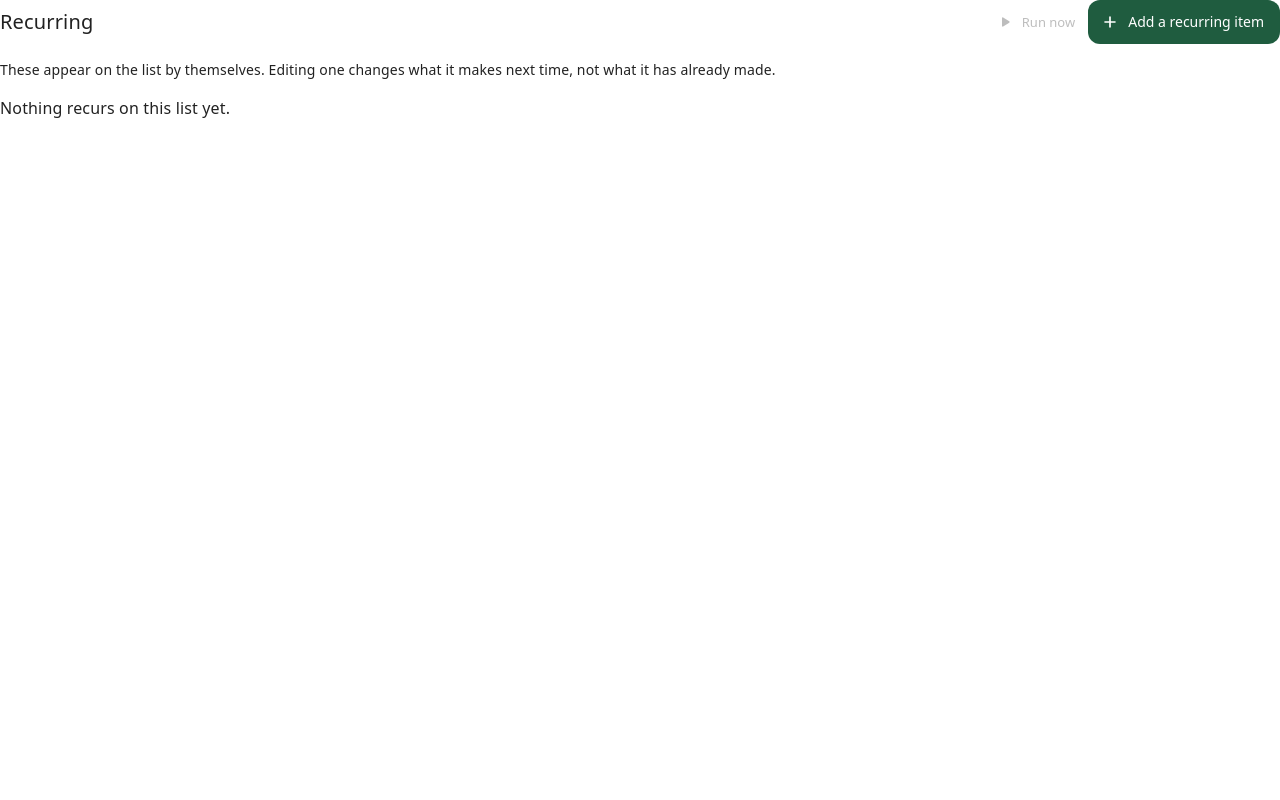
Test case: RecurrenceSection › asks only for the parameters the chosen shape uses
Click the button "Add a recurring item".
click(1184, 22)  # box [1088,0,1279,44]
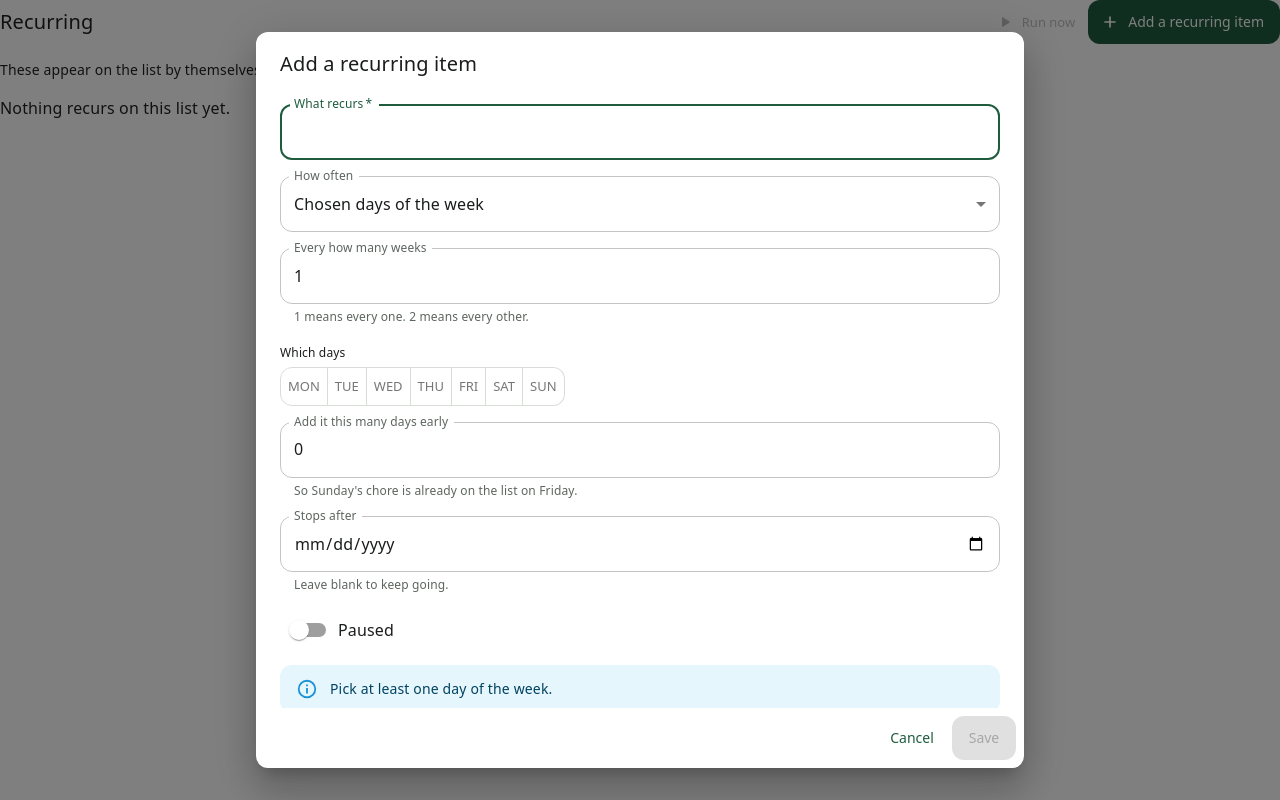
Expected: the number field labelled "Day of the month" is not shown
Expected: the button with aria-label "TUESDAY" is shown, [327,367,367,406]
Click the dropdown named "How often".
click(389, 204)  # box [294,192,484,214]
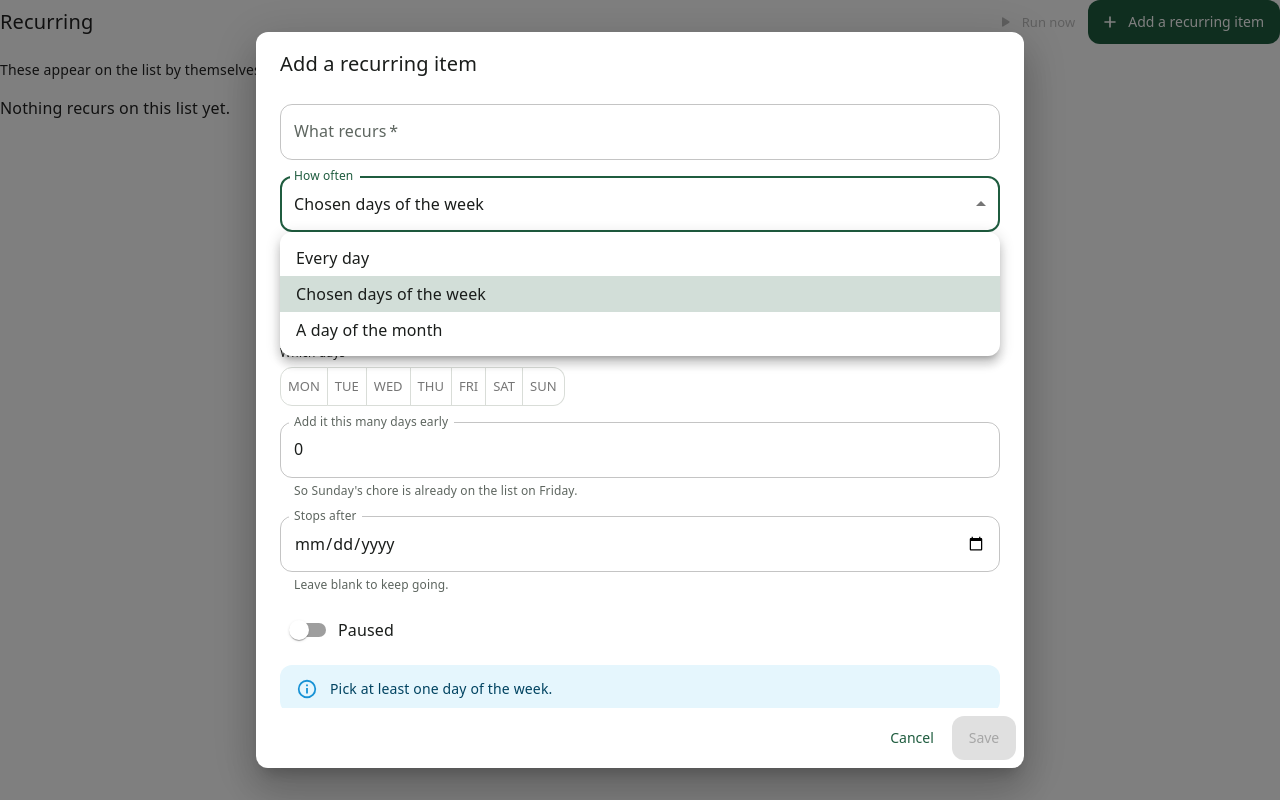
Click the option "A day of the month".
click(369, 330)  # box [296,319,443,341]
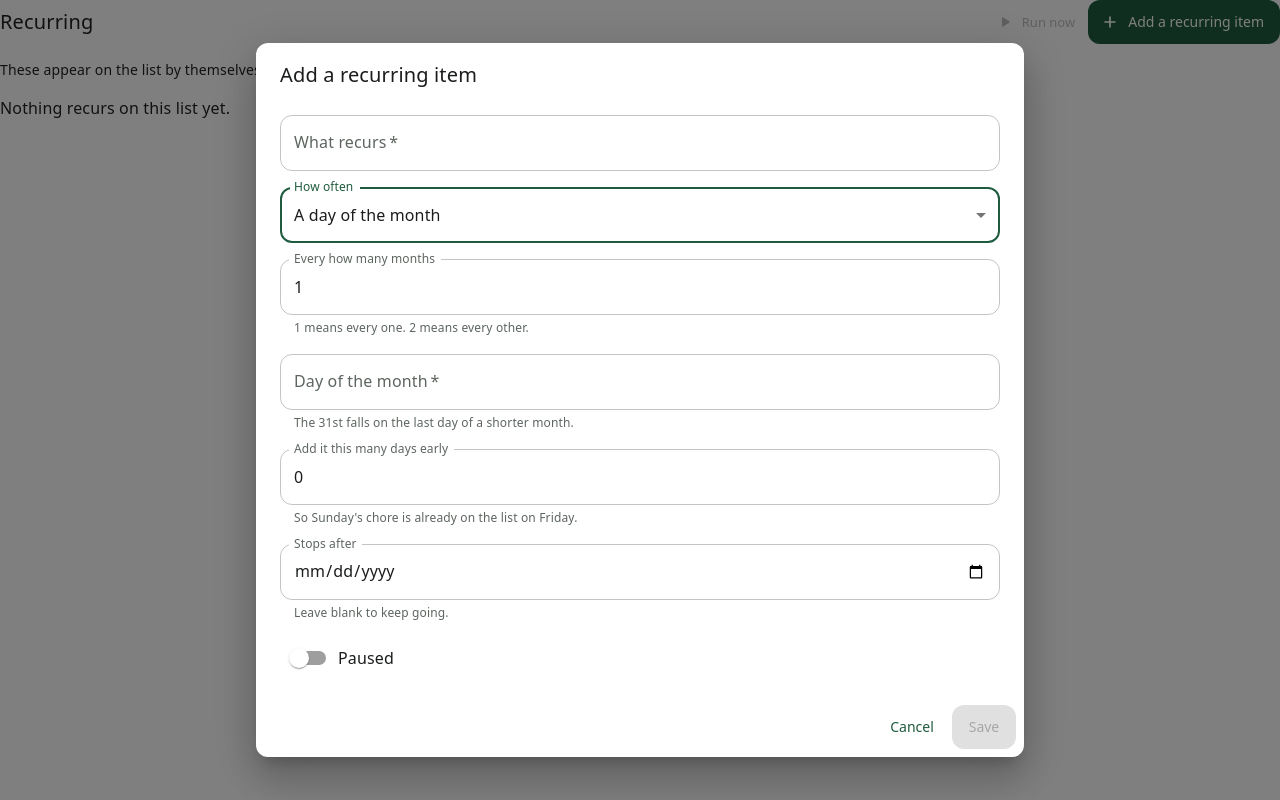
Expected: the number field labelled "Day of the month" is shown, [280,354,1000,410]
Expected: the button "TUESDAY" is gone
